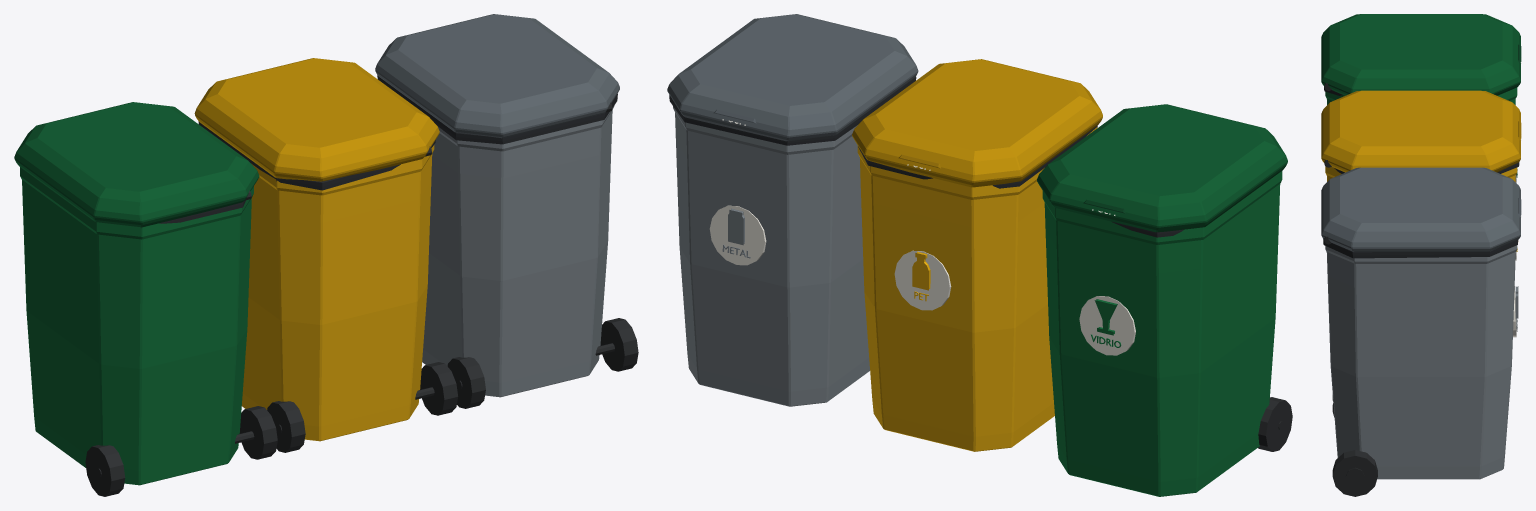
The model's file is botes_reciclaje.glb.
The picture shows the model from 3 angles, left to right: view 1: azimuth 30°, elevation 25°; view 2: azimuth 150°, elevation 25°; view 3: azimuth 270°, elevation 25°; orthographic projection. The views are drawn at different scales.
Parts seen in each view (by area): view 1: cuerpo, cuerpo.002, cuerpo.001, tapa, tapa.001, tapa.002, labio, rueda, bolsa_reborde.002, rueda.005, rueda.001, labio.001 (+5 smaller); view 2: cuerpo, cuerpo.002, cuerpo.001, tapa, tapa.001, tapa.002, labio, etq_disco, etq_disco.001, etq_disco.002, labio.001, labio.002 (+3 smaller); view 3: cuerpo.002, tapa.002, tapa.001, tapa, rueda.005, labio.002, bolsa_reborde.002, labio, buje.005.
Boxes of the visible parts, x1,y1,x2,y2 form: cuerpo: (22, 180, 251, 485); cuerpo.002: (422, 110, 612, 397); cuerpo.001: (241, 154, 432, 441); tapa: (14, 102, 259, 227); tapa.001: (194, 58, 439, 181); tapa.002: (375, 14, 619, 138); labio: (20, 167, 253, 239); rueda: (85, 445, 125, 496); bolsa_reborde.002: (377, 75, 617, 144); rueda.005: (600, 318, 638, 371); rueda.001: (239, 406, 277, 459); labio.001: (251, 145, 434, 195); cuerpo: (1044, 184, 1280, 496); cuerpo.002: (675, 112, 869, 406); cuerpo.001: (859, 157, 1054, 451); tapa: (1037, 104, 1287, 232); tapa.001: (852, 59, 1102, 187); tapa.002: (667, 14, 918, 141); labio: (1042, 171, 1282, 244); etq_disco: (1079, 296, 1135, 355); etq_disco.001: (894, 250, 951, 310); etq_disco.002: (709, 205, 766, 265); labio.001: (857, 127, 1097, 199); labio.002: (673, 106, 857, 154); cuerpo.002: (1326, 252, 1515, 479); tapa.002: (1321, 167, 1520, 251); tapa.001: (1321, 90, 1520, 172); tapa: (1321, 14, 1520, 95); rueda.005: (1332, 450, 1377, 496); labio.002: (1325, 245, 1517, 263); bolsa_reborde.002: (1323, 239, 1518, 258); labio: (1325, 87, 1517, 100); buje.005: (1345, 467, 1364, 485).
Size of the model in its own units: 1.94 by 1.05 by 0.7216.
